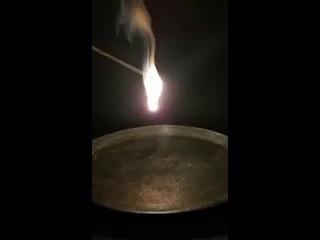Fire: (138, 17, 166, 115)
